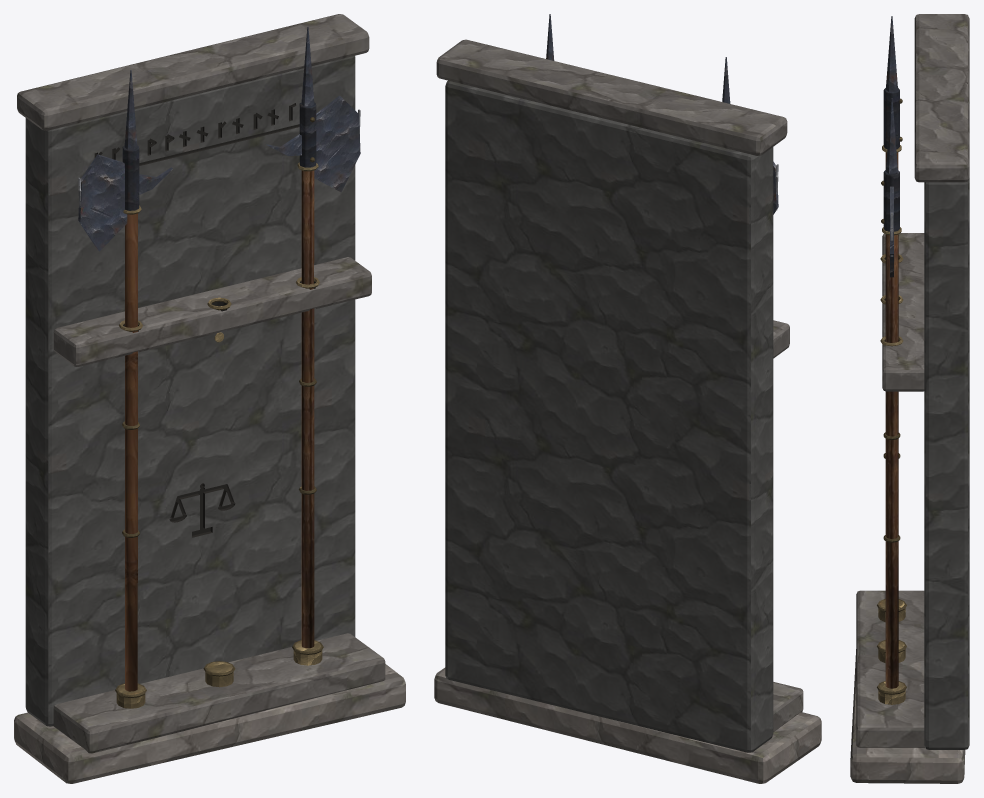
Rendered from bv_halberd_rack.glb.
The picture shows the model from 3 angles, left to right: view 1: azimuth 30°, elevation 25°; view 2: azimuth 150°, elevation 25°; view 3: azimuth 270°, elevation 25°; orthographic projection. The views are drawn at different scales.
Parts seen in each view (by area): view 1: model; view 2: model; view 3: model.
Part boxes in pixels (x1,y1,x2,y2): model: (14, 14, 405, 783); model: (434, 14, 821, 783); model: (850, 14, 969, 783).
Bounding box in the file's own units: 1.15 × 2.22 × 0.3684.
Materials: 11 (10 with a texture image).
